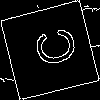C: (24, 25, 78, 71)
